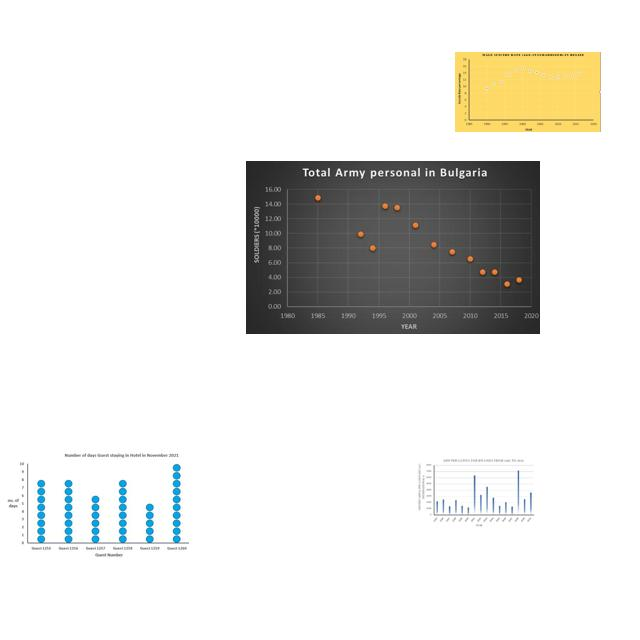Graph: (246, 161, 540, 334), (5, 451, 189, 560), (455, 52, 601, 132), (417, 457, 536, 528)
